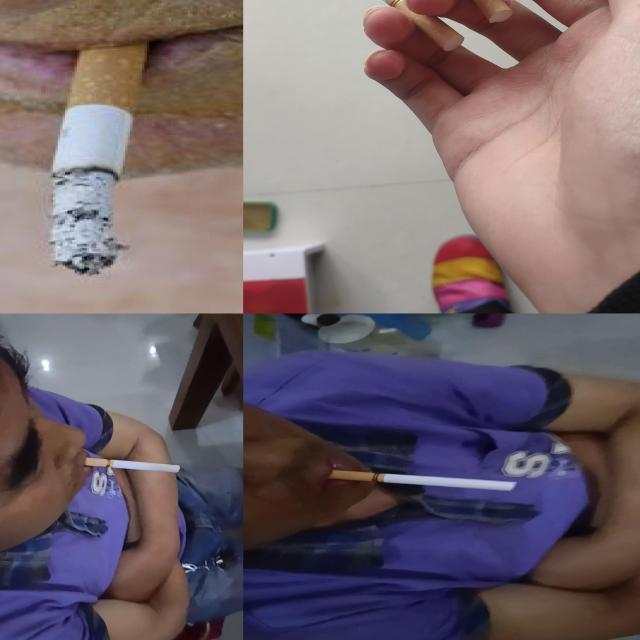smoking: (50, 19, 159, 278), (296, 0, 466, 53), (329, 469, 522, 492), (83, 458, 182, 474)
